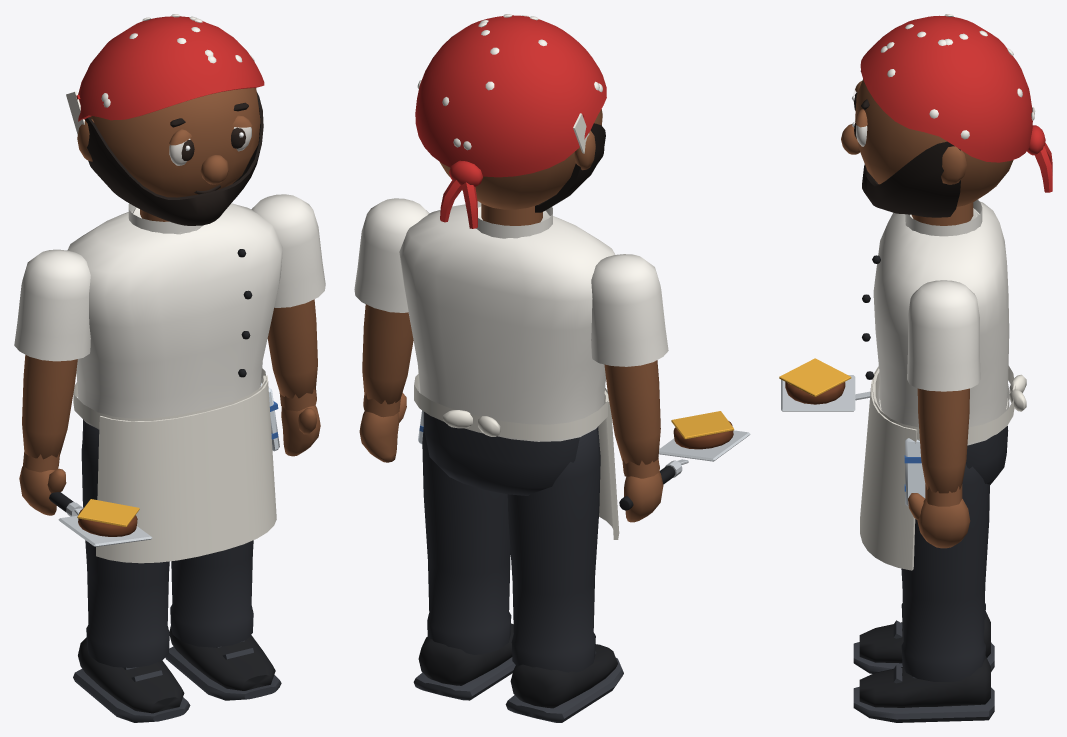
The model's file is Character_Class_line_cook.fbx.
The picture shows the model from 3 angles, left to right: view 1: azimuth 30°, elevation 25°; view 2: azimuth 150°, elevation 25°; view 3: azimuth 270°, elevation 25°; orthographic projection.
Parts seen in each view (by area): view 1: Torso, Apron, Bandana, Head, LegR, LegL, ArmR, Beard, ArmL, ArmR_Skin, ArmL_Skin, LegR_Shoe (+10 smaller); view 2: Torso, Bandana, LegR, LegL, ArmR, Hips, ArmL, Apron, ArmR_Skin, Head, ArmL_Skin, LegR_Shoe (+11 smaller); view 3: Bandana, Torso, LegL, Apron, ArmL, Head, ArmL_Skin, Beard, LegL_Shoe, HandL, LegL_Sole, LegR_Shoe (+8 smaller).
Boxes of the visible parts, box(x1,y1,x2,y2) form: Torso: box(67, 203, 282, 429); Apron: box(73, 368, 276, 563); Bandana: box(78, 16, 264, 121); Head: box(77, 88, 260, 221); LegR: box(81, 422, 169, 667); LegL: box(170, 540, 253, 647); ArmR: box(14, 249, 90, 361); Beard: box(85, 92, 263, 225); ArmL: box(251, 194, 325, 307); ArmR_Skin: box(22, 354, 77, 459); ArmL_Skin: box(267, 299, 317, 398); LegR_Shoe: box(78, 637, 184, 713); Torso: box(399, 204, 615, 441); Bandana: box(415, 15, 606, 228); LegR: box(507, 428, 600, 672); LegL: box(422, 427, 511, 654); ArmR: box(591, 254, 668, 366); Hips: box(423, 411, 598, 495); ArmL: box(354, 198, 429, 312); Apron: box(414, 374, 619, 539); ArmR_Skin: box(604, 360, 660, 465); Head: box(440, 109, 602, 225); ArmL_Skin: box(362, 304, 413, 404); LegR_Shoe: box(510, 644, 617, 708); Bandana: box(860, 15, 1052, 192); Torso: box(873, 201, 1009, 445); LegL: box(901, 464, 989, 681); Apron: box(860, 366, 1026, 570); ArmL: box(907, 280, 980, 391); Head: box(841, 79, 1013, 225); ArmL_Skin: box(917, 388, 969, 493); Beard: box(862, 141, 960, 217); LegL_Shoe: box(859, 656, 990, 707); HandL: box(908, 484, 970, 548); LegL_Sole: box(853, 665, 994, 722); LegR_Shoe: box(859, 611, 990, 663).
Bounding box in the file's own units: 249 × 511 × 191.
